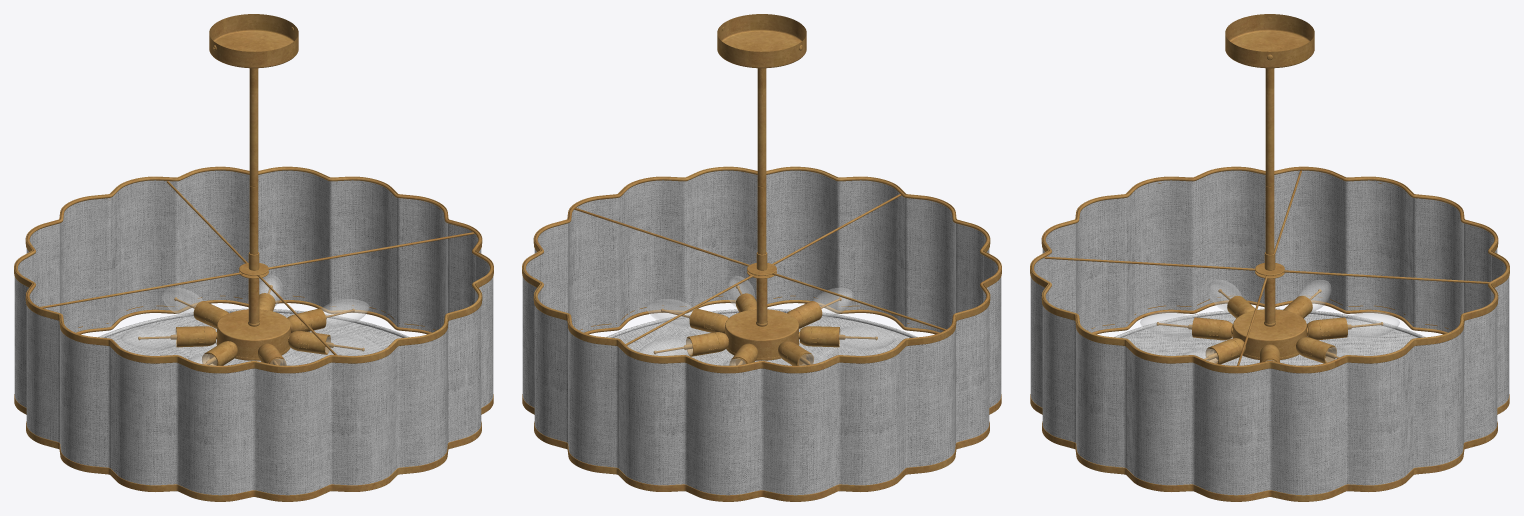
File: lumion-chandelier-lamp.glb
3 views of the same model, side by side, from view 1: azimuth 30°, elevation 25°; view 2: azimuth 150°, elevation 25°; view 3: azimuth 270°, elevation 25° (orthographic).
Visible parts, largest first — view 1: subscattering, frame, stand, bulb, bulb-holder; view 2: subscattering, frame, stand, bulb-holder, bulb; view 3: subscattering, frame, stand, bulb-holder, bulb.
Part boxes in pixels (box(x1,y1,x2,y2)): subscattering: box(14, 170, 493, 495); frame: box(14, 166, 493, 501); stand: box(209, 14, 298, 360); bulb: box(121, 275, 380, 365); bulb-holder: box(138, 285, 364, 365); subscattering: box(522, 170, 1001, 495); frame: box(522, 166, 1001, 501); stand: box(717, 14, 806, 360); bulb-holder: box(653, 285, 877, 365); bulb: box(639, 276, 894, 365); subscattering: box(1030, 170, 1509, 495); frame: box(1030, 166, 1509, 501); stand: box(1225, 14, 1314, 359); bulb-holder: box(1156, 289, 1383, 364); bulb: box(1140, 280, 1399, 363).
Bounding box in the file's own units: 0.6351 × 0.5458 × 0.643.
Materials: 3 (2 with a texture image).
